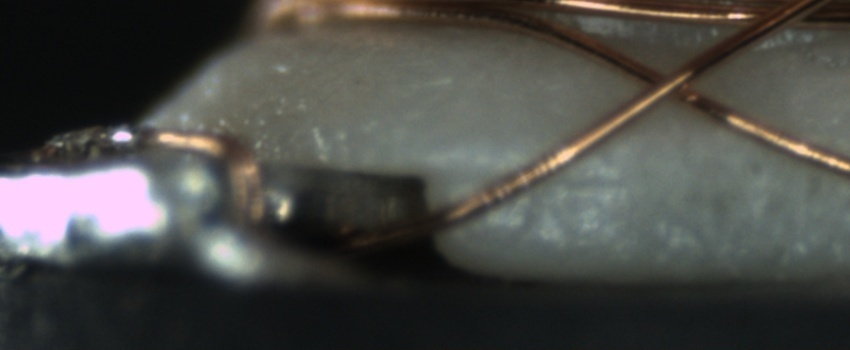CL: (624, 54, 716, 116)
DL: (428, 148, 664, 212)
TE: (137, 124, 264, 235)
